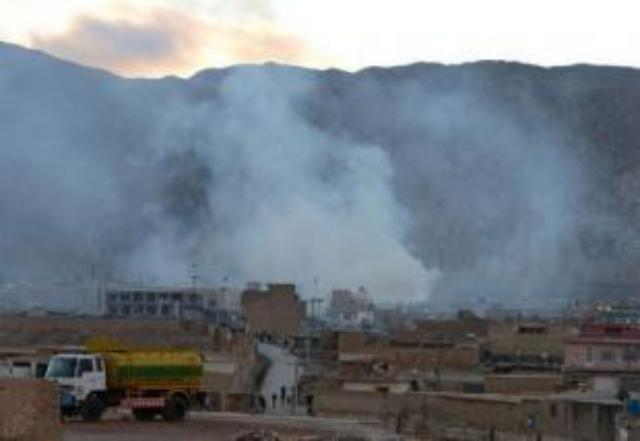smoke: (222, 70, 324, 267), (497, 130, 569, 261), (20, 124, 100, 208), (332, 196, 406, 281)
